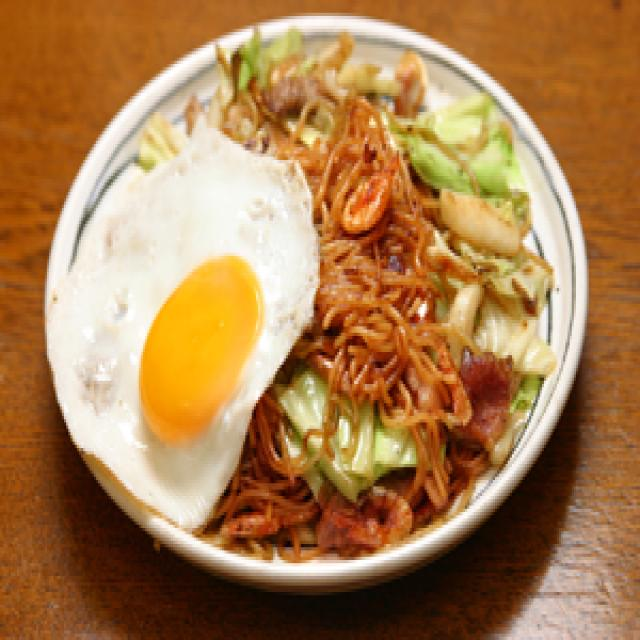面条主食: (22, 0, 596, 595)
